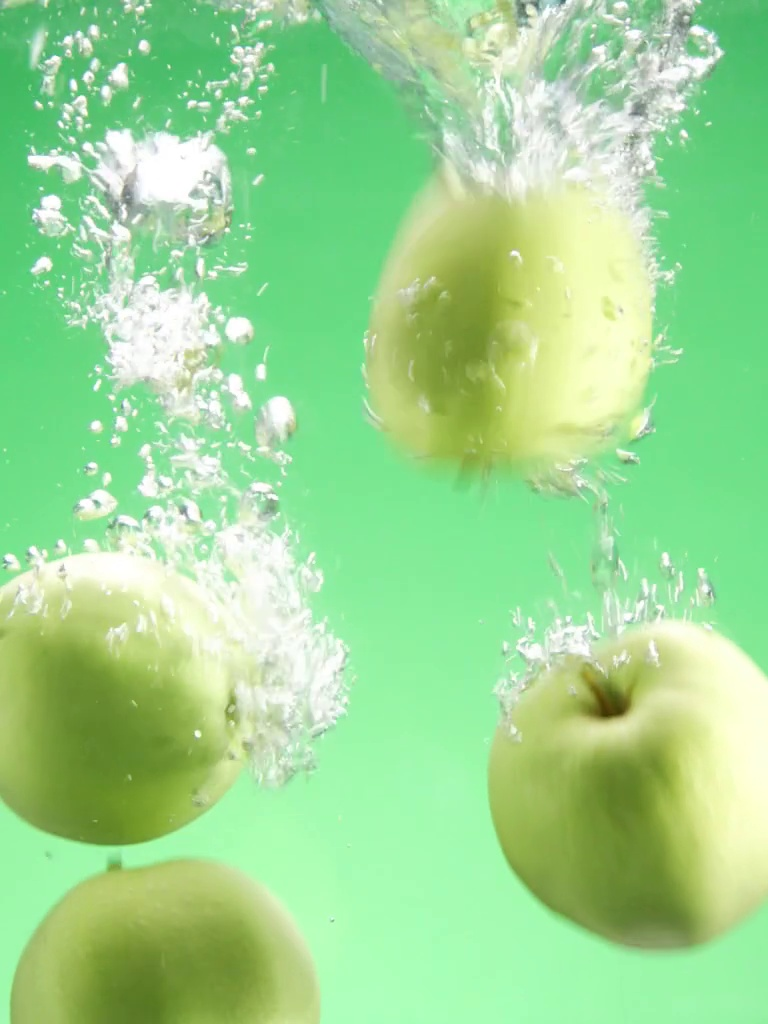Apple: (351, 140, 658, 477), (488, 612, 768, 956), (1, 528, 262, 842)
